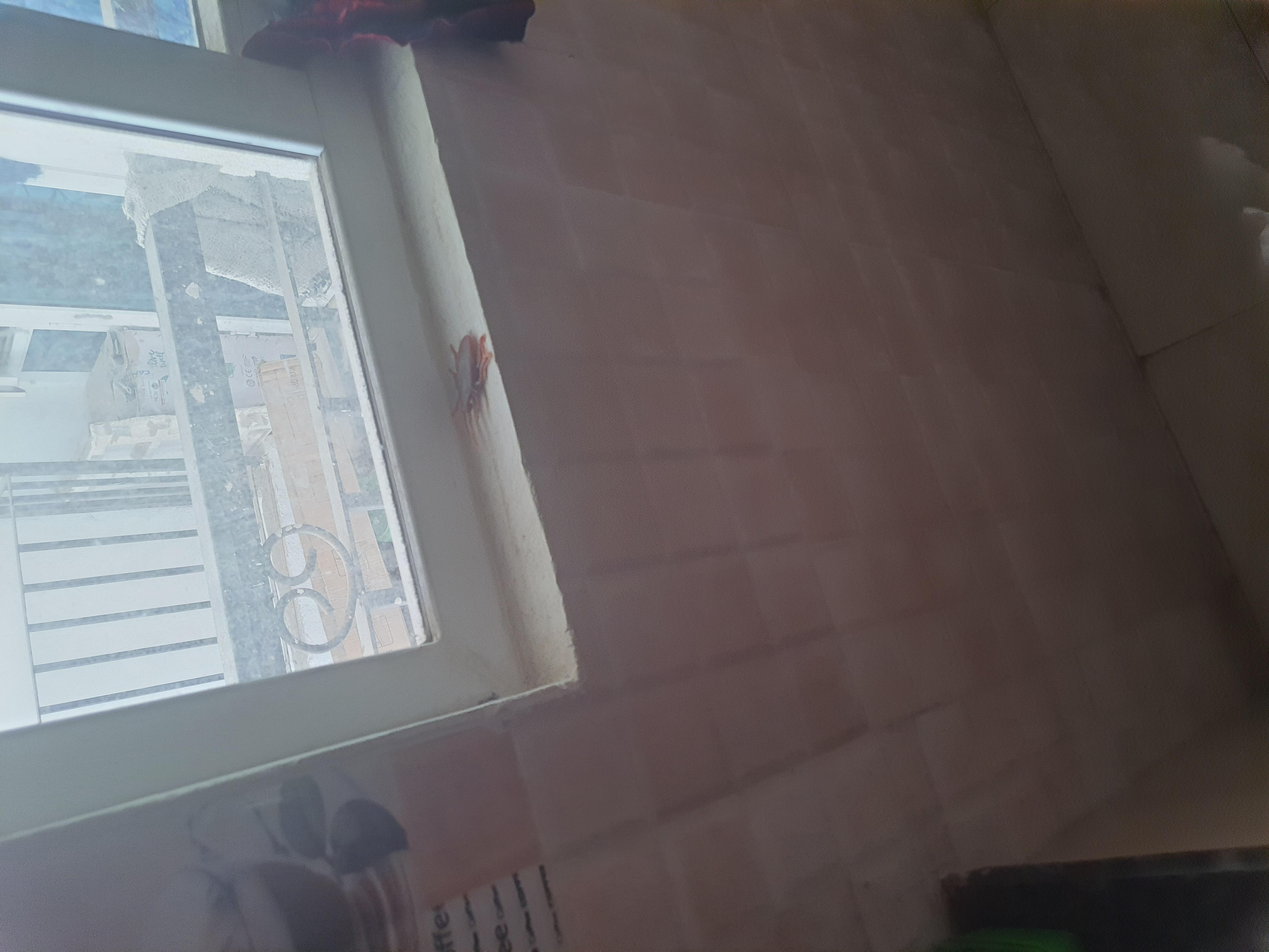cockroach: (664, 322, 847, 374)
